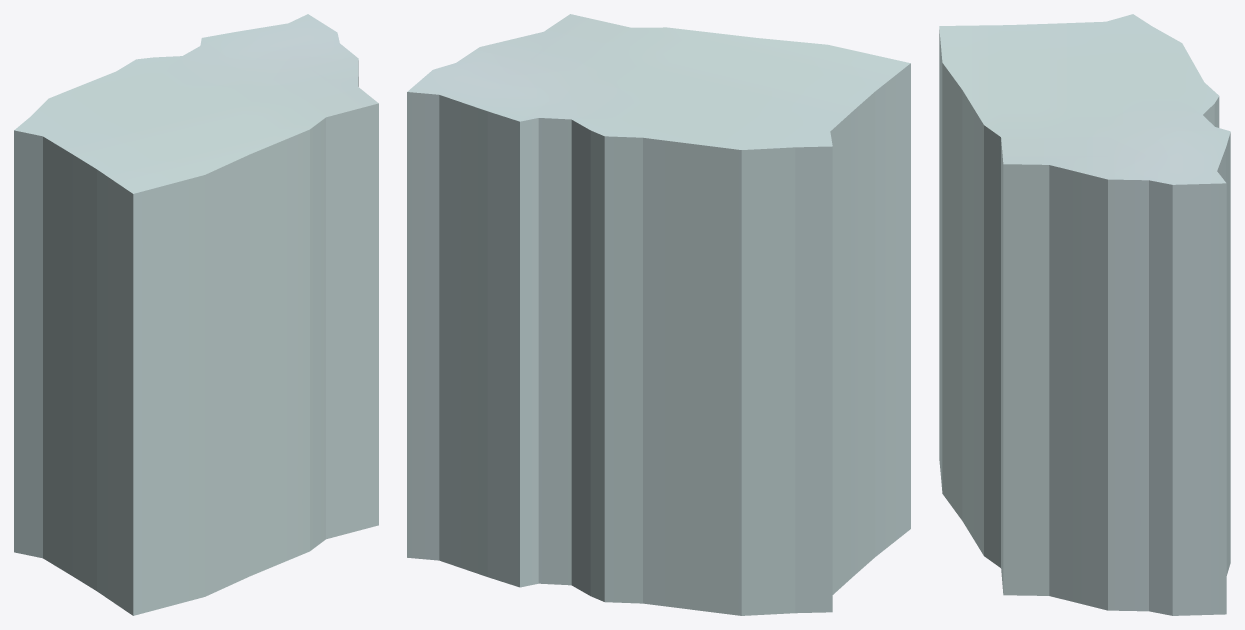
File: asbury park.glb
The picture shows the model from 3 angles, left to right: view 1: azimuth 30°, elevation 25°; view 2: azimuth 150°, elevation 25°; view 3: azimuth 270°, elevation 25°; orthographic projection. The views are drawn at different scales.
Visible parts, largest first — view 1: Plane.023; view 2: Plane.023; view 3: Plane.023.
Boxes of the visible parts, left/top/right/bottom form: Plane.023: left=14, top=14, right=378, bottom=615; Plane.023: left=407, top=14, right=910, bottom=615; Plane.023: left=939, top=14, right=1230, bottom=615.
Size of the model in its own units: 0.3278 by 0.3856 by 0.2364.
Materials: 1 (1 with a texture image).
